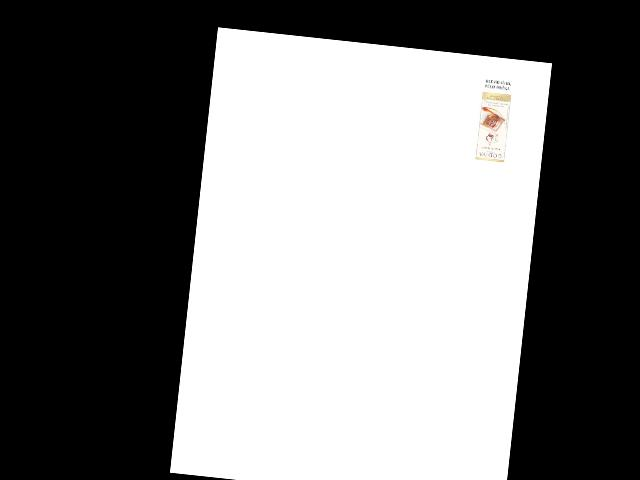chocolate: (472, 89, 511, 163)
